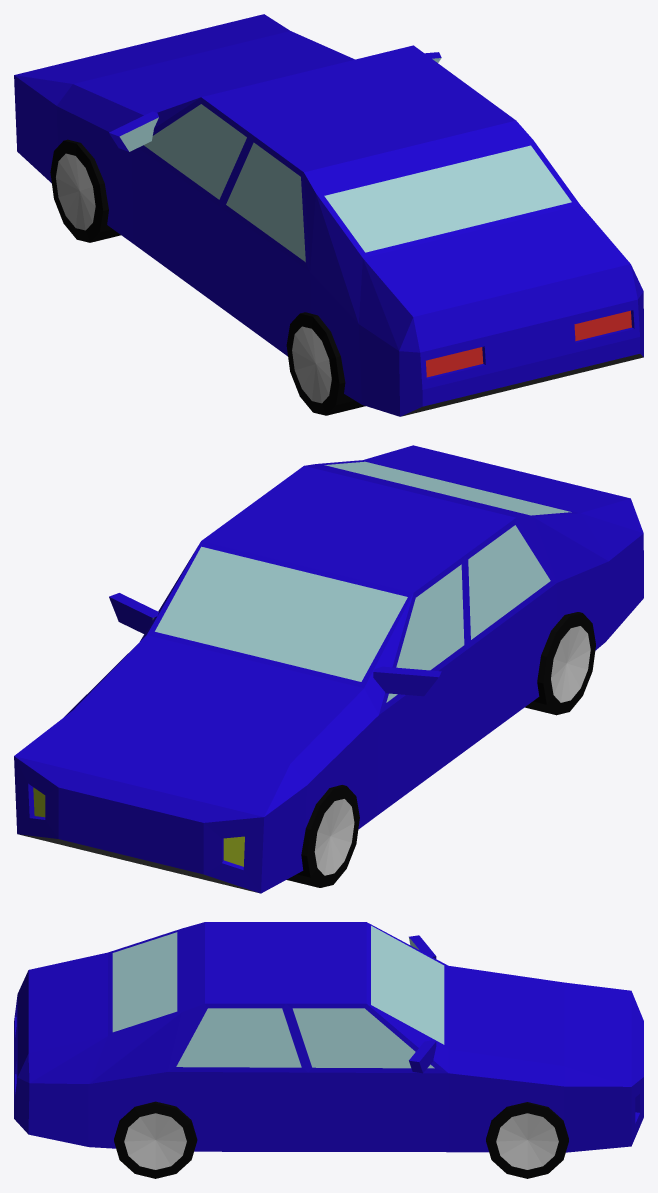
The model's file is CarroSemSeta.fbx.
3 renders of one model, top to bottom at view 1: azimuth 30°, elevation 25°; view 2: azimuth 150°, elevation 25°; view 3: azimuth 270°, elevation 25°, orthographic. The views are drawn at different scales.
Visible parts, largest first — view 1: Carro sem seta; view 2: Carro sem seta; view 3: Carro sem seta.
Part boxes in pixels (left/top/right/bottom): Carro sem seta: left=14, top=14, right=643, bottom=416; Carro sem seta: left=14, top=445, right=643, bottom=893; Carro sem seta: left=14, top=922, right=643, bottom=1178.
Bounding box in the file's own units: 304 × 186 × 637.
